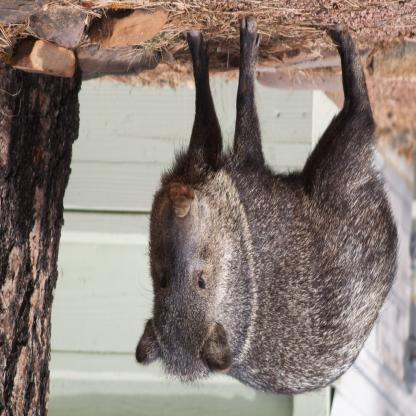boar: (134, 15, 401, 392)
